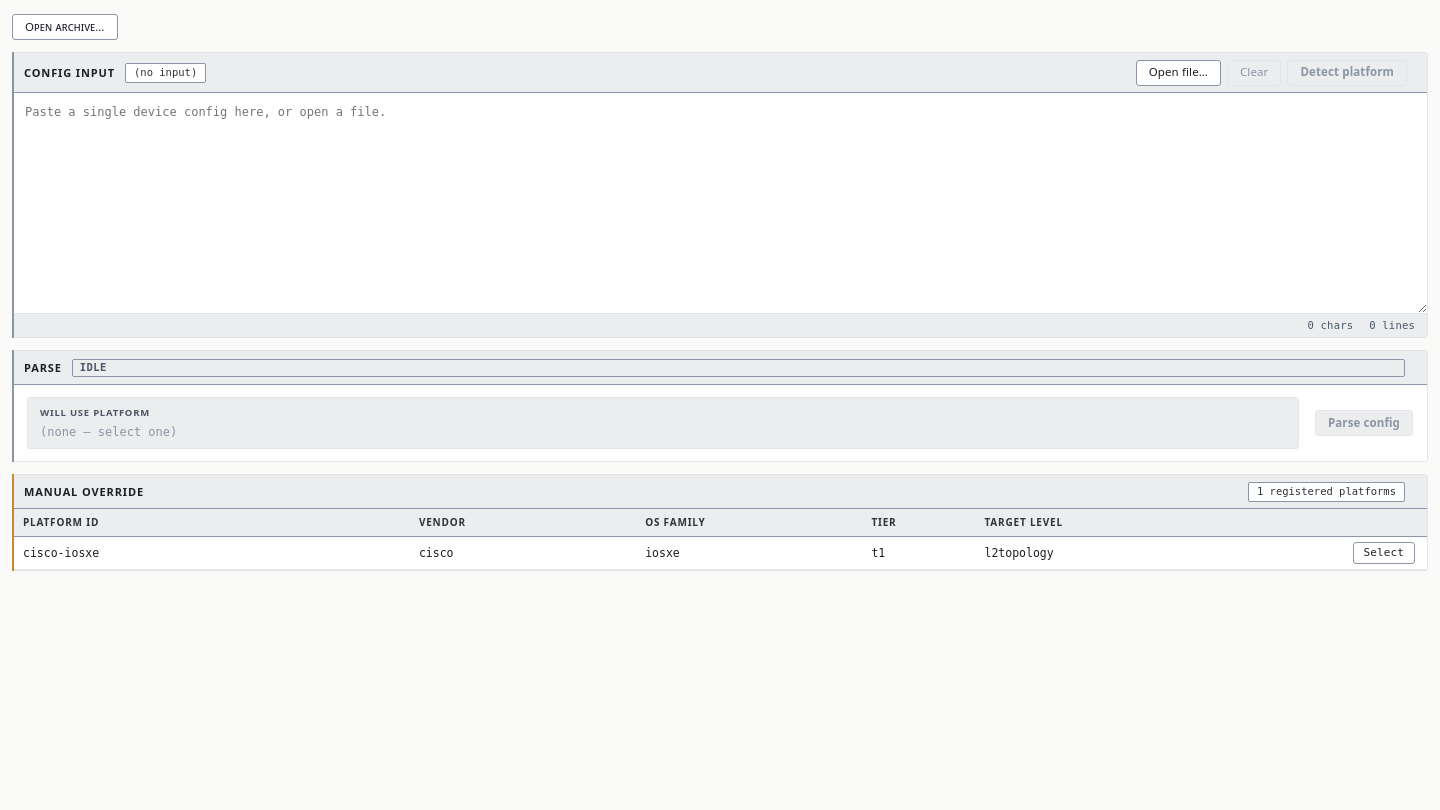
Scenario: IntakePanel — V1P-A workspace layout › batch summary renders full-width, no workspace
Type "x" into the text box named "Config text" at (720, 203), box [13, 93, 1427, 313]
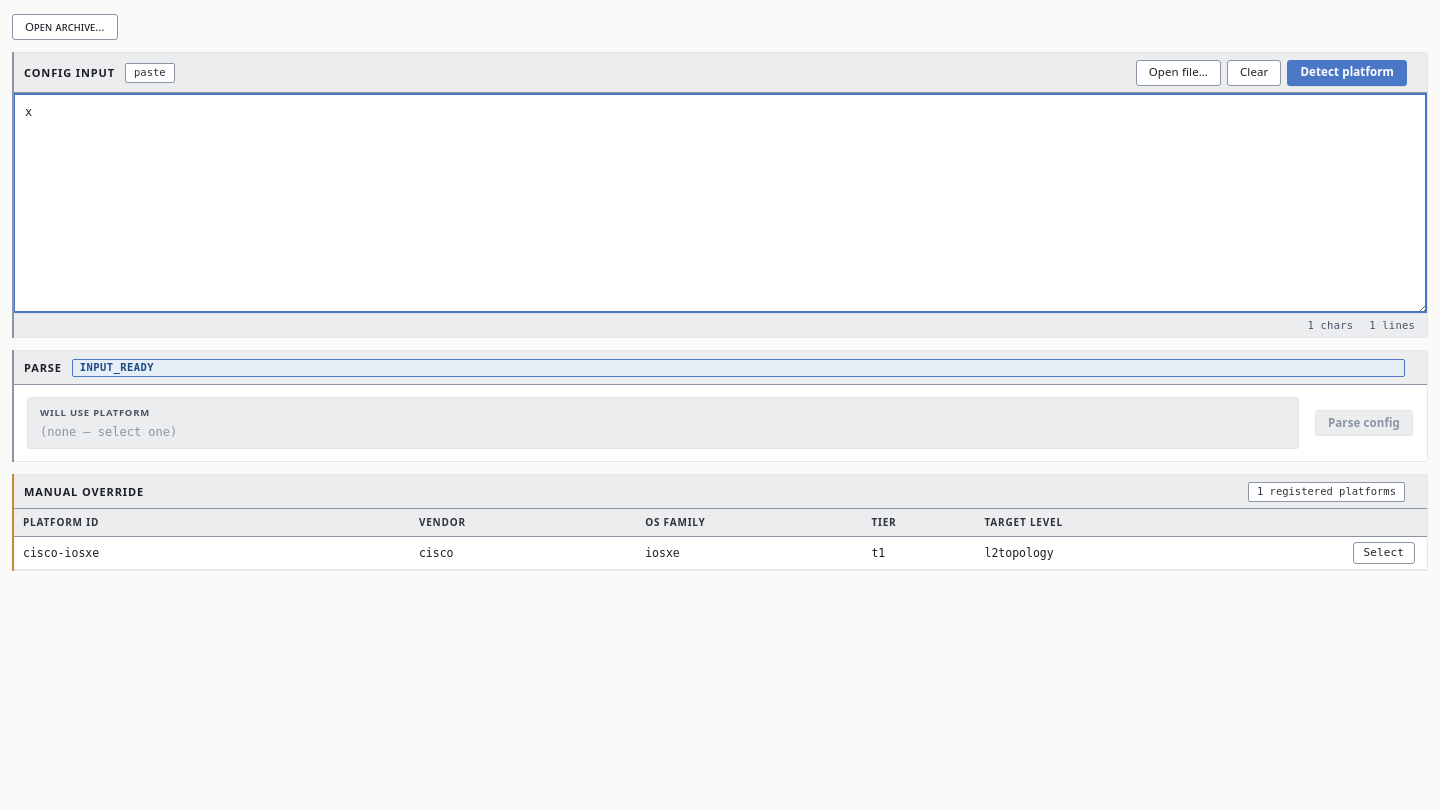
Click the button "Detect platform" at (1347, 72), box [1288, 60, 1407, 86]
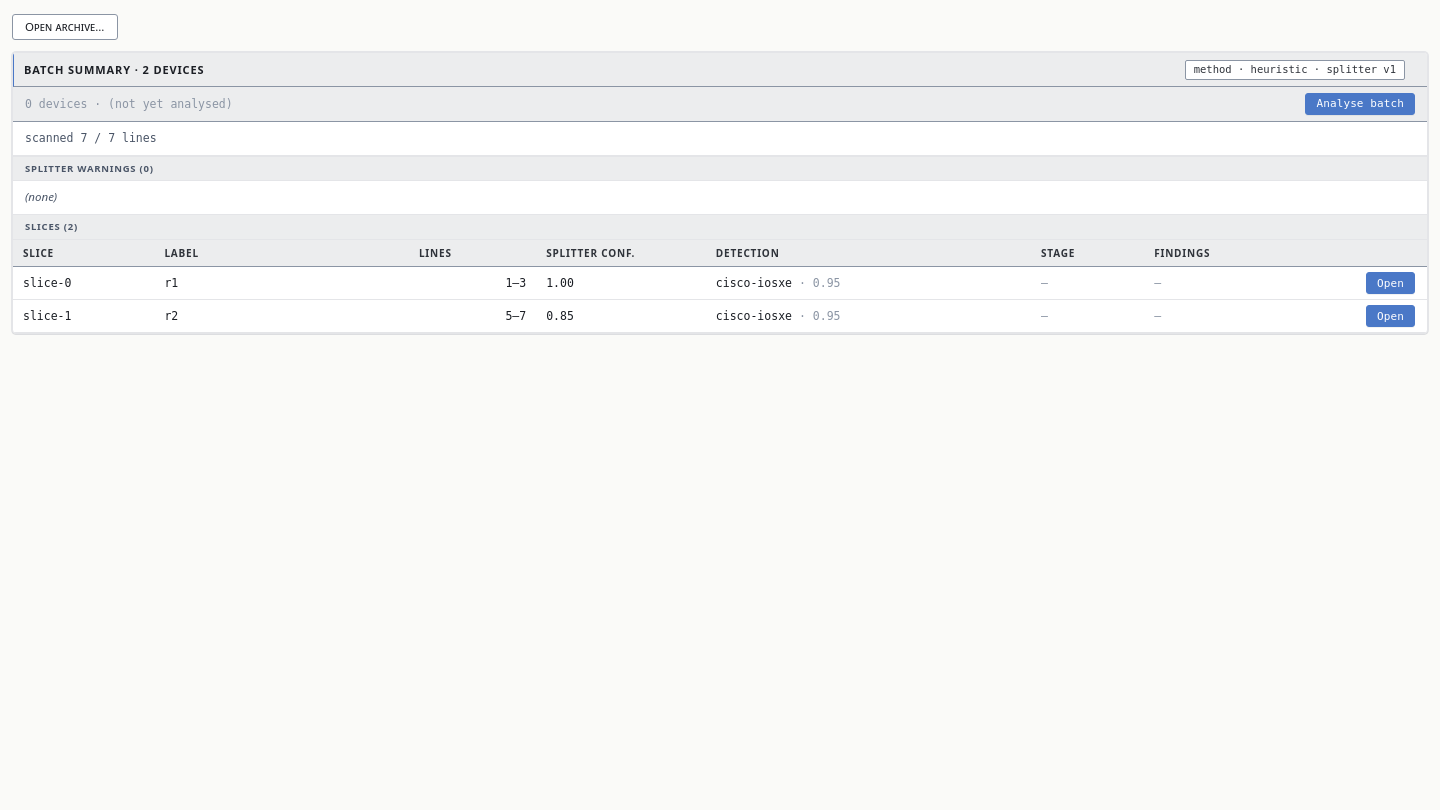
Check: the element labelled "BATCH SUMMARY" is shown, box [12, 52, 1428, 334]
